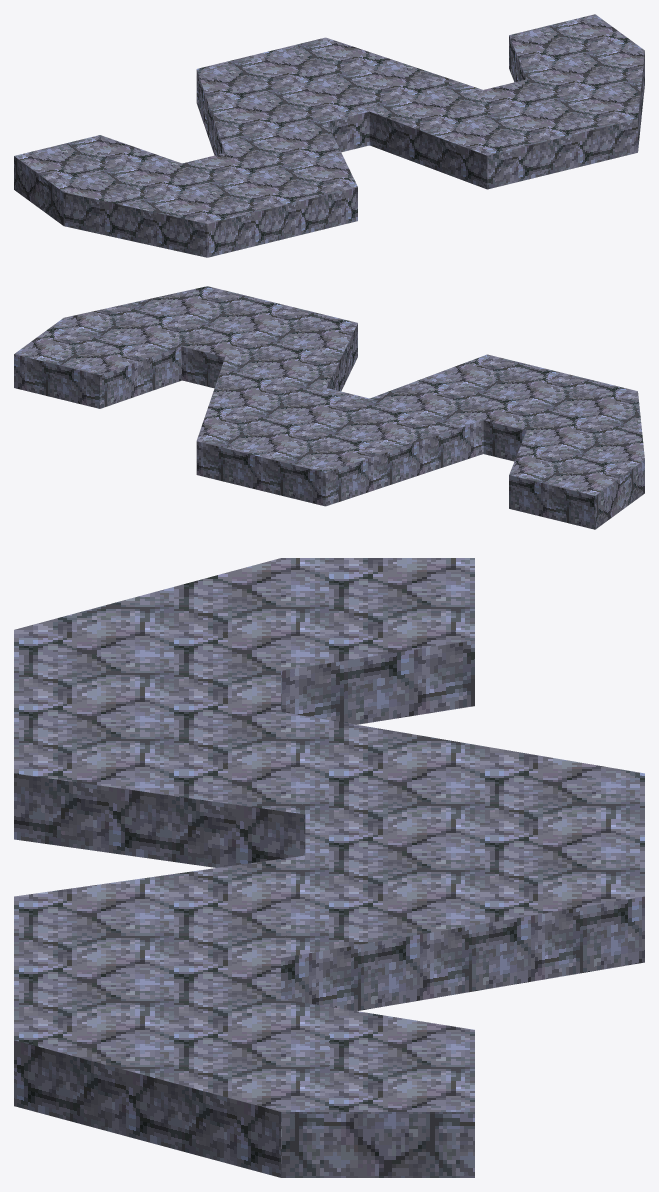
File: km3_yokoshiso.obj
The picture shows the model from 3 angles, top to bottom: view 1: azimuth 30°, elevation 25°; view 2: azimuth 150°, elevation 25°; view 3: azimuth 270°, elevation 25°; orthographic projection. The views are drawn at different scales.
Visible parts, largest first — view 1: world_root; view 2: world_root; view 3: world_root.
Part boxes in pixels (x1,y1,x2,y2): world_root: [14, 14, 644, 257]; world_root: [14, 286, 644, 529]; world_root: [14, 558, 644, 1177].
Bounding box in the file's own units: 338 × 18.75 × 163.
Materials: 1 (1 with a texture image).
